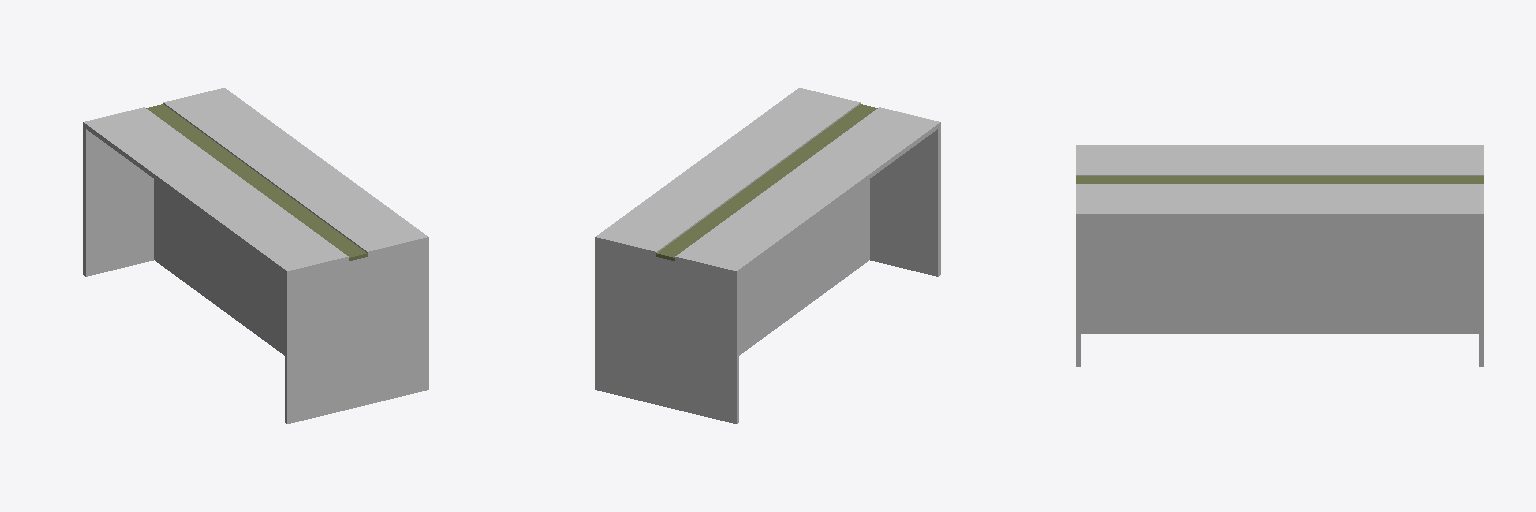
Rendered from hightable.obj.
3 renders of one model, left to right at view 1: azimuth 30°, elevation 25°; view 2: azimuth 150°, elevation 25°; view 3: azimuth 270°, elevation 25°, orthographic.
Visible parts, largest first — view 1: hightable_Material.017, hightable_Material.018; view 2: hightable_Material.017, hightable_Material.018; view 3: hightable_Material.017, hightable_Material.018.
Boxes of the visible parts, <box> form: hightable_Material.017: <box>83,88,428,423</box>; hightable_Material.018: <box>146,104,367,260</box>; hightable_Material.017: <box>595,88,940,423</box>; hightable_Material.018: <box>656,104,877,260</box>; hightable_Material.017: <box>1076,145,1483,366</box>; hightable_Material.018: <box>1076,176,1483,183</box>.
Size of the model in its own units: 60 by 62 by 150.